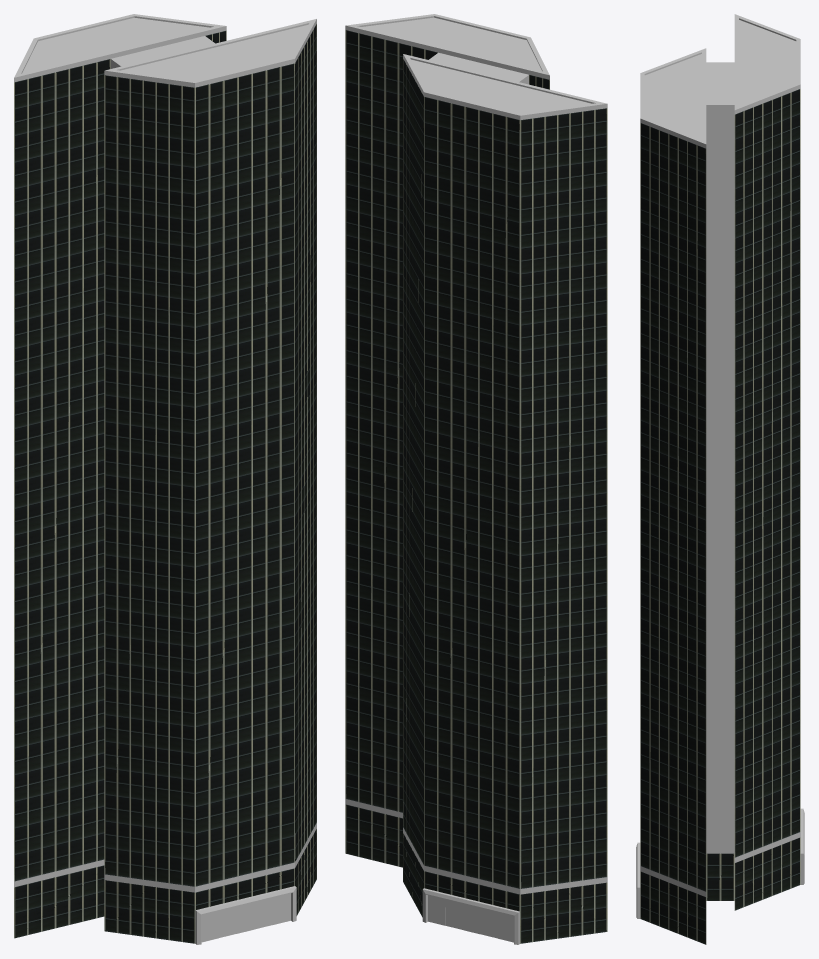
3 renders of one model, left to right at view 1: azimuth 30°, elevation 25°; view 2: azimuth 150°, elevation 25°; view 3: azimuth 270°, elevation 25°, orthographic. The views are drawn at different scales.
Parts seen in each view (by area): view 1: BC-072; view 2: BC-072; view 3: BC-072.
Boxes of the visible parts, x1,y1,x2,y2 form: BC-072: (14,14,316,944); BC-072: (345,14,607,944); BC-072: (636,14,804,944).
Size of what is drawn, in the model's own units: 40.67 by 116 by 22.15.
